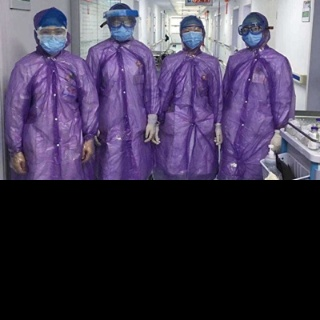with_mask: (36, 26, 68, 54), (108, 16, 135, 41), (240, 24, 264, 46), (181, 25, 203, 48)
